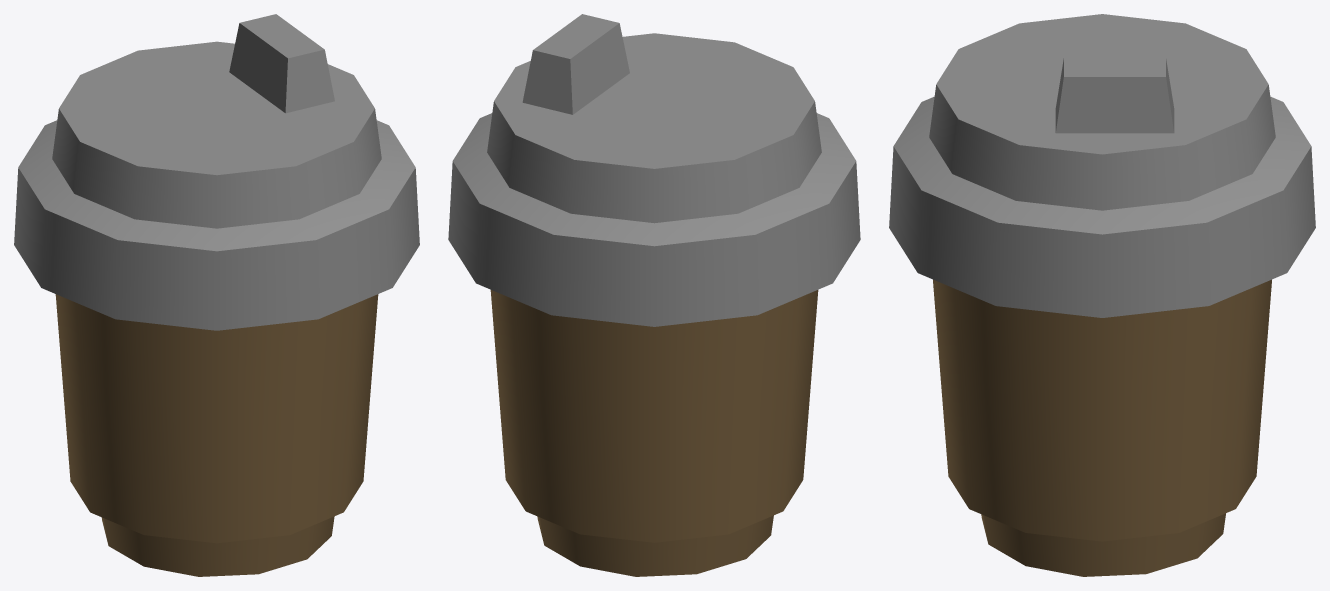
File: dishes_latte_01.fbx
3 views of the same model, side by side, from view 1: azimuth 30°, elevation 25°; view 2: azimuth 150°, elevation 25°; view 3: azimuth 270°, elevation 25° (orthographic). The views are drawn at different scales.
Visible parts, largest first — view 1: dishes_latte_01; view 2: dishes_latte_01; view 3: dishes_latte_01.
Part boxes in pixels (bbox=[...]): dishes_latte_01: bbox=[14, 14, 419, 576]; dishes_latte_01: bbox=[448, 14, 860, 576]; dishes_latte_01: bbox=[889, 14, 1315, 576].
Size of the model in its own units: 37.96 by 48.56 by 37.96.
